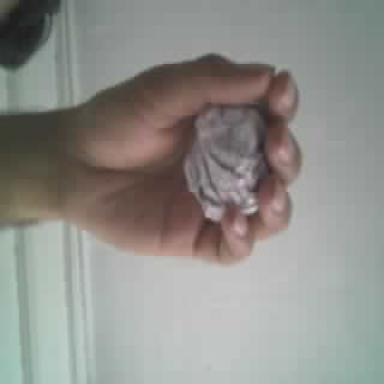paper: (184, 104, 268, 221)
